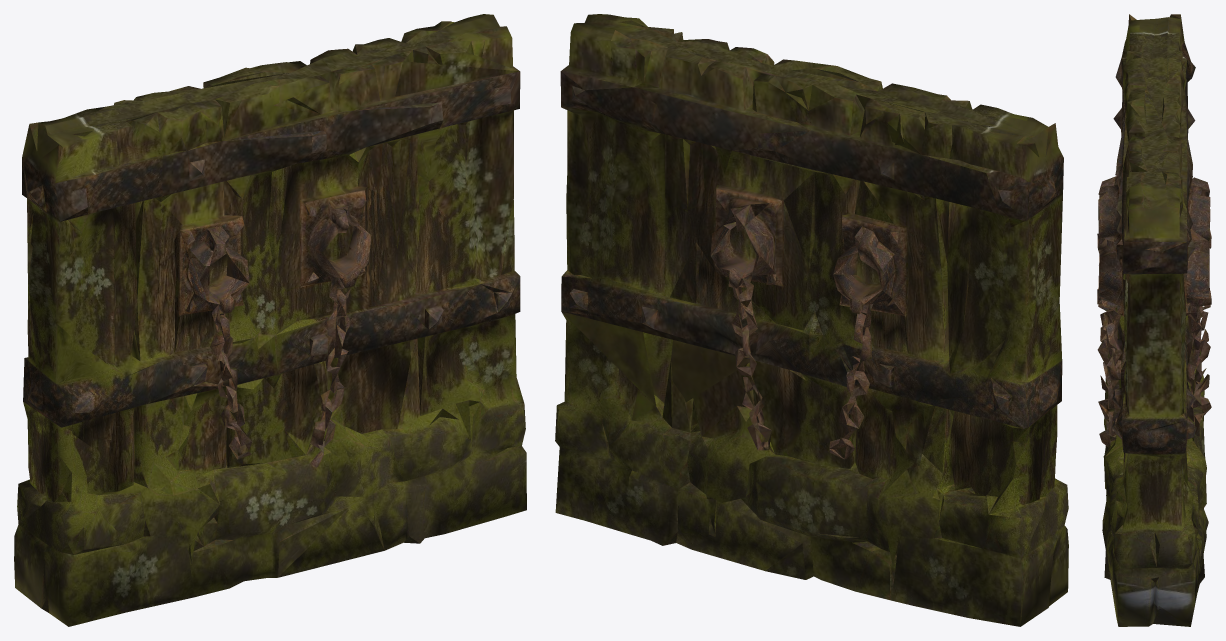
File: prison-wall-intact.glb
3 views of the same model, side by side, from view 1: azimuth 30°, elevation 25°; view 2: azimuth 150°, elevation 25°; view 3: azimuth 270°, elevation 25° (orthographic). The views are drawn at different scales.
Bounding box in the file's own units: 2 × 1.91 × 0.4708.
Materials: 1 (1 with a texture image).
